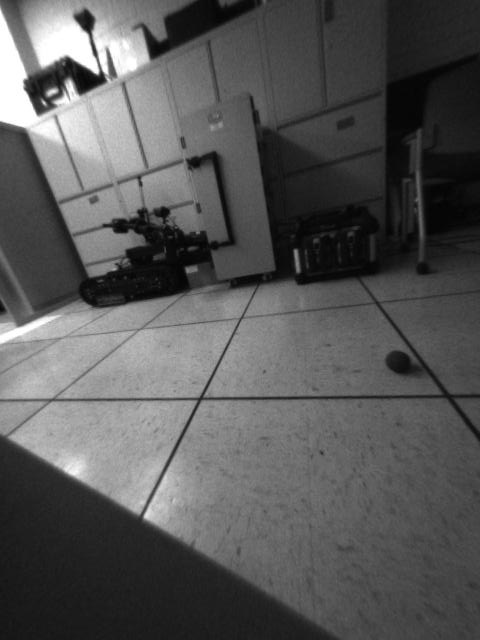dogtoy: (380, 340, 419, 379)
